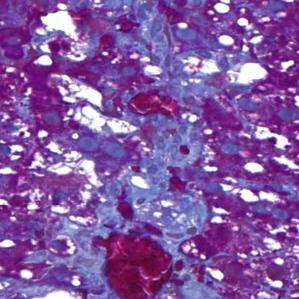ballooning: (48, 72, 140, 141)
